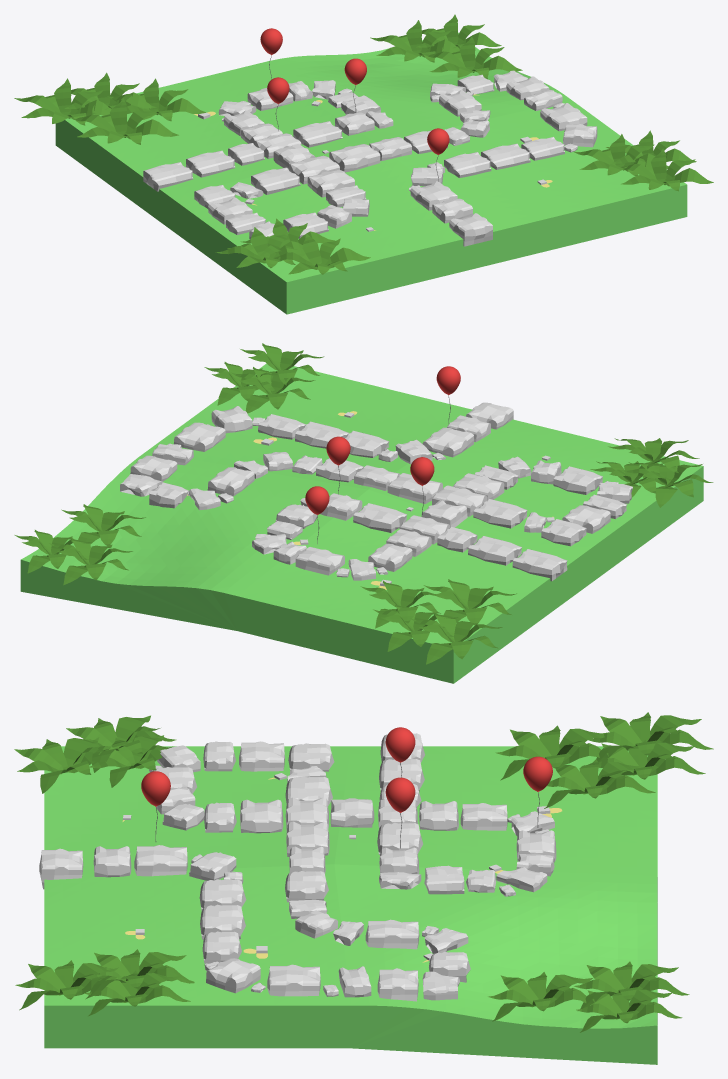
The model's file is bloons_level.glb.
The picture shows the model from 3 angles, top to bottom: view 1: azimuth 30°, elevation 25°; view 2: azimuth 150°, elevation 25°; view 3: azimuth 270°, elevation 25°; orthographic projection. The views are drawn at different scales.
Parts seen in each view (by area): view 1: Level, Cube.005, Cube.019, Rock1, Rock1.003, Rock1.001, Rock1.005, Rock1.008, Rock1.019, Cube.012, Cube, Cube.001 (+24 smaller); view 2: Level, Rock1, Rock1.005, Rock1.003, Rock1.001, Cube.012, Cube.017, Cube.005, Cube.009, Rock1.014, Cube.004, Cube.001 (+29 smaller); view 3: Level, Cube.012, Cube.017, Cube.004, Cube.016, Cube, Cube.021, Cube.019, Cube.002, Cube.014, Cube.008, Rock1.008 (+42 smaller).
Boxes of the visible parts, bbox=[...] form: Level: bbox=[55, 32, 687, 314]; Cube.005: bbox=[329, 144, 380, 172]; Cube.019: bbox=[449, 213, 492, 246]; Rock1: bbox=[143, 162, 193, 191]; Rock1.003: bbox=[251, 167, 300, 194]; Rock1.001: bbox=[186, 150, 235, 177]; Rock1.005: bbox=[293, 121, 342, 147]; Rock1.008: bbox=[481, 143, 530, 169]; Rock1.019: bbox=[444, 152, 491, 177]; Cube.012: bbox=[540, 103, 587, 131]; Cube: bbox=[307, 170, 354, 197]; Cube.001: bbox=[289, 155, 339, 184]; Level: bbox=[20, 363, 703, 683]; Rock1: bbox=[512, 549, 567, 581]; Rock1.005: bbox=[353, 503, 407, 532]; Rock1.003: bbox=[473, 499, 527, 528]; Rock1.001: bbox=[468, 536, 521, 565]; Cube.012: bbox=[174, 422, 225, 451]; Cube.017: bbox=[422, 427, 473, 457]; Cube.005: bbox=[387, 473, 442, 503]; Cube.009: bbox=[295, 547, 344, 575]; Rock1.014: bbox=[553, 466, 602, 494]; Cube.004: bbox=[207, 467, 254, 496]; Cube.001: bbox=[432, 485, 486, 516]; Level: bbox=[44, 746, 657, 1064]; Cube.012: bbox=[267, 964, 320, 996]; Cube.017: bbox=[134, 845, 187, 876]; Cube.004: bbox=[365, 919, 419, 949]; Cube.016: bbox=[206, 958, 260, 993]; Cube: bbox=[240, 799, 283, 833]; Cube.021: bbox=[239, 741, 284, 771]; Cube.019: bbox=[39, 848, 83, 889]; Cube.002: bbox=[330, 798, 374, 827]; Cube.014: bbox=[377, 968, 418, 1001]; Cube.008: bbox=[460, 803, 507, 830]; Rock1.008: bbox=[200, 904, 245, 939].
Size of what is drawn, in the model's own units: 13.97 by 3.42 by 13.7.
